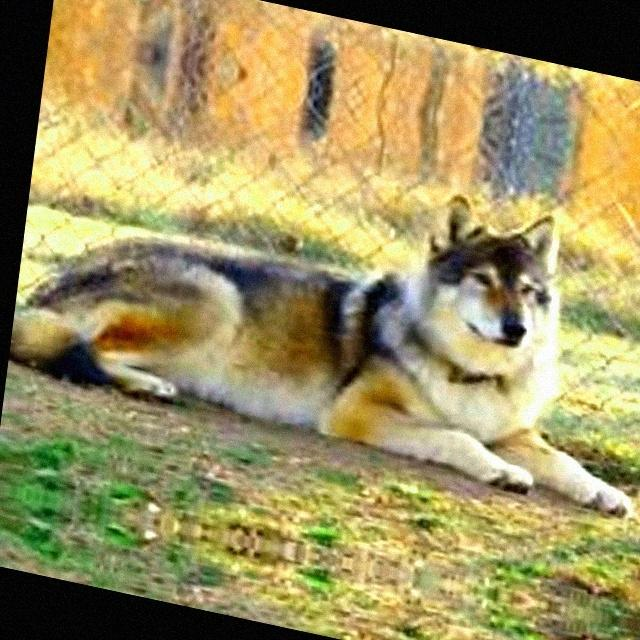dog: (20, 92, 640, 587), (6, 524, 610, 640), (79, 0, 640, 110)
